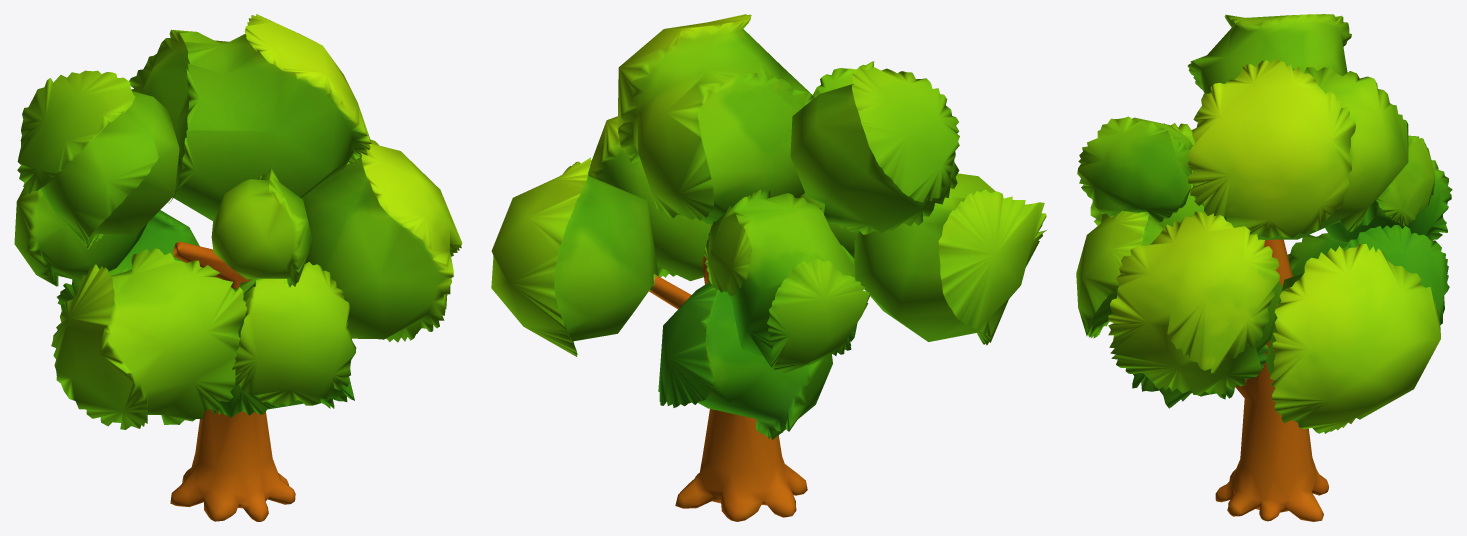
Rendered from tree_round.glb.
3 renders of one model, left to right at view 1: azimuth 30°, elevation 25°; view 2: azimuth 150°, elevation 25°; view 3: azimuth 270°, elevation 25°, orthographic. The views are drawn at different scales.
Visible parts, largest first — view 1: tripo_node_02430bb5-44ca-4088-8298-db4354de8289; view 2: tripo_node_02430bb5-44ca-4088-8298-db4354de8289; view 3: tripo_node_02430bb5-44ca-4088-8298-db4354de8289.
Part boxes in pixels (<box>): tripo_node_02430bb5-44ca-4088-8298-db4354de8289: <box>14,14,462,521</box>; tripo_node_02430bb5-44ca-4088-8298-db4354de8289: <box>491,14,1046,521</box>; tripo_node_02430bb5-44ca-4088-8298-db4354de8289: <box>1076,14,1452,521</box>.
Size of the model in its own units: 0.9395 by 0.998 by 0.7598.
Materials: 1 (1 with a texture image).
